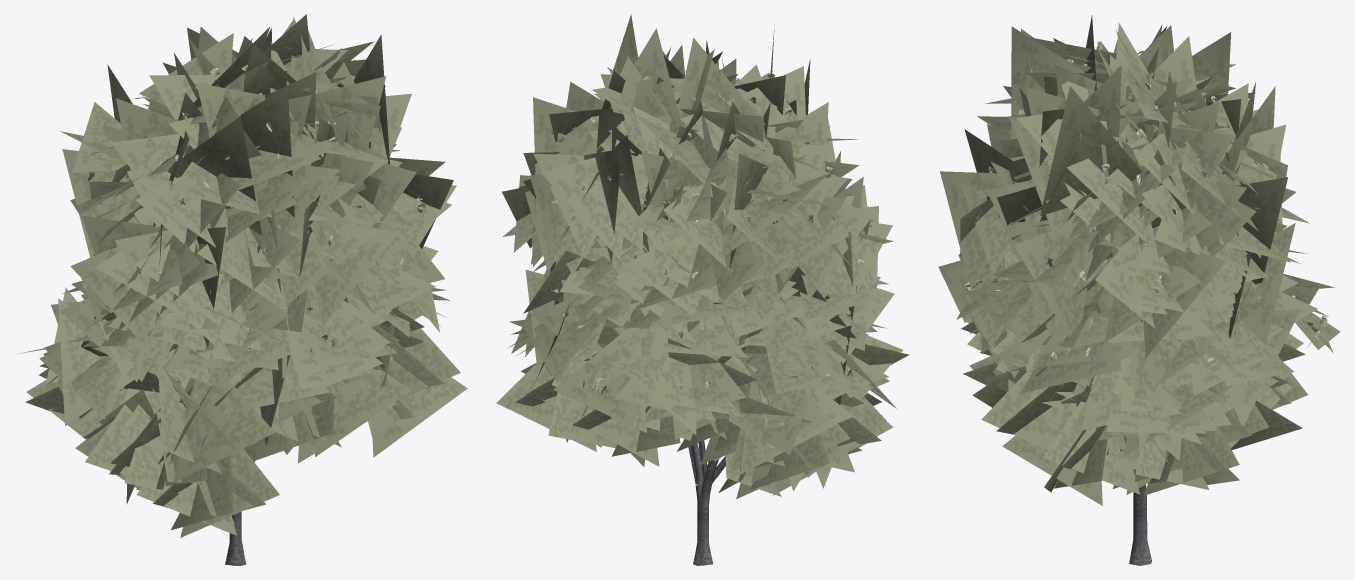
File: Sorbus_Aria_Spring_Adult.glb
3 views of the same model, side by side, from view 1: azimuth 30°, elevation 25°; view 2: azimuth 150°, elevation 25°; view 3: azimuth 270°, elevation 25° (orthographic). The views are drawn at different scales.
Parts seen in each view (by area): view 1: Sorbus_Aria_Spring_Adult__LOD3; view 2: Sorbus_Aria_Spring_Adult__LOD3; view 3: Sorbus_Aria_Spring_Adult__LOD3.
Boxes of the visible parts, x1,y1,x2,y2 form: Sorbus_Aria_Spring_Adult__LOD3: [16, 14, 467, 565]; Sorbus_Aria_Spring_Adult__LOD3: [496, 14, 909, 565]; Sorbus_Aria_Spring_Adult__LOD3: [938, 15, 1340, 565].
Bounding box in the file's own units: 6.78 × 9.06 × 6.06.
3 materials, 3 textured.
